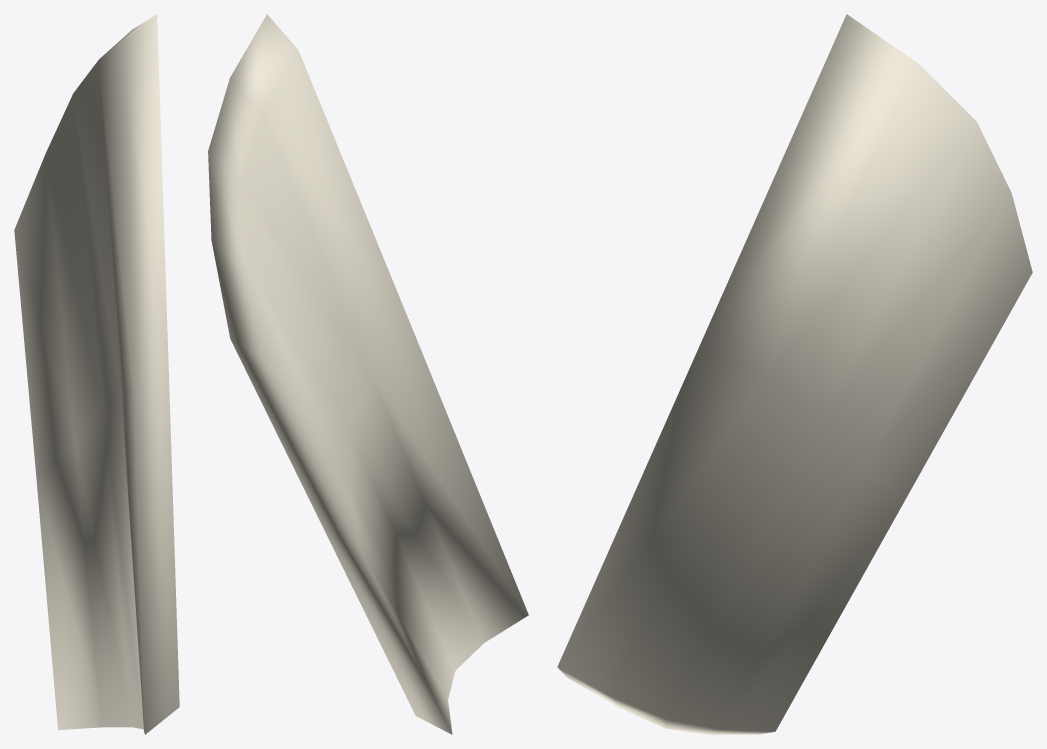
3 views of the same model, side by side, from view 1: azimuth 30°, elevation 25°; view 2: azimuth 150°, elevation 25°; view 3: azimuth 270°, elevation 25° (orthographic). The views are drawn at different scales.
Visible parts, largest first — view 1: ZA_3d62d06b63c39cad; view 2: ZA_3d62d06b63c39cad; view 3: ZA_3d62d06b63c39cad.
Boxes of the visible parts, x1,y1,x2,y2 form: ZA_3d62d06b63c39cad: (14,14,179,734); ZA_3d62d06b63c39cad: (208,14,528,734); ZA_3d62d06b63c39cad: (557,14,1032,734).
Bounding box in the file's own units: 0.00343 × 0.0154 × 0.0083.
